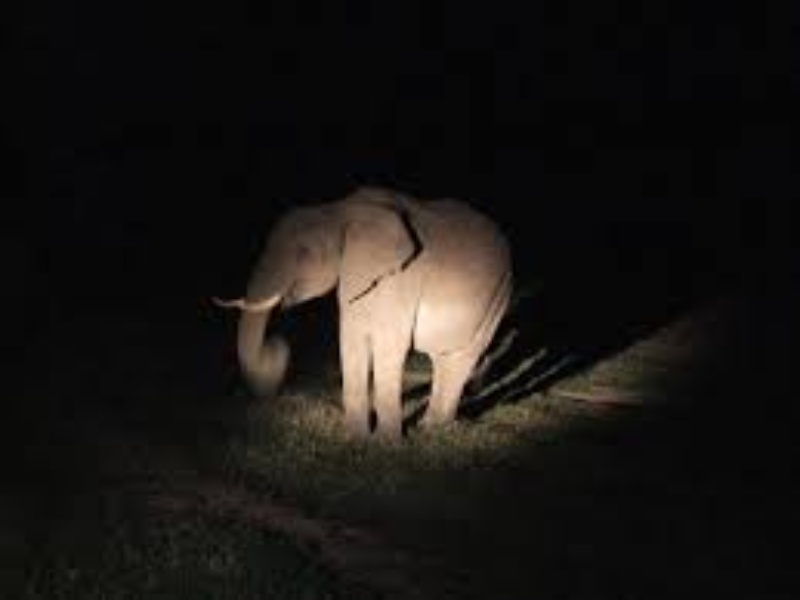elephant: (215, 160, 533, 441)
